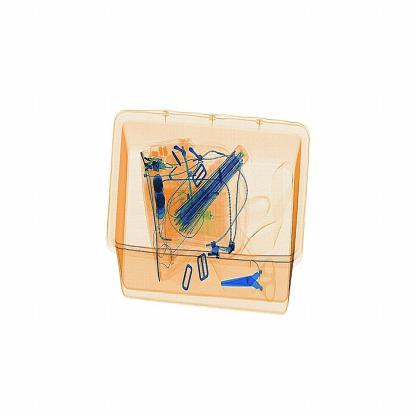gun: (222, 261, 266, 293)
